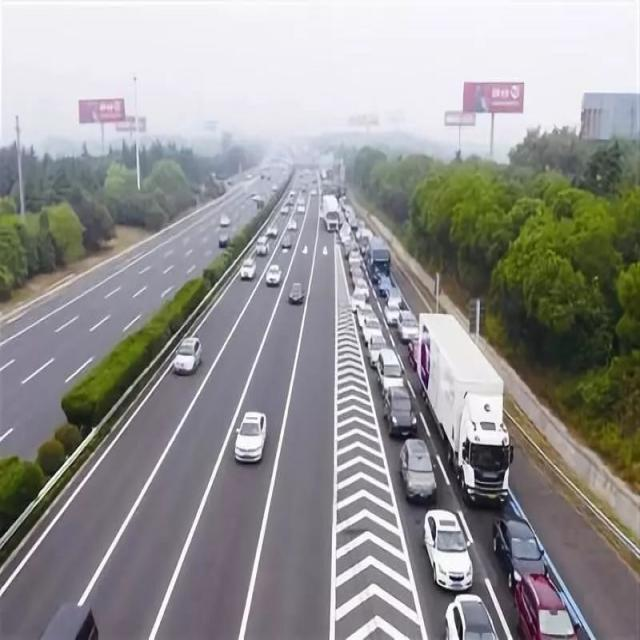point: (230, 101, 362, 255)
